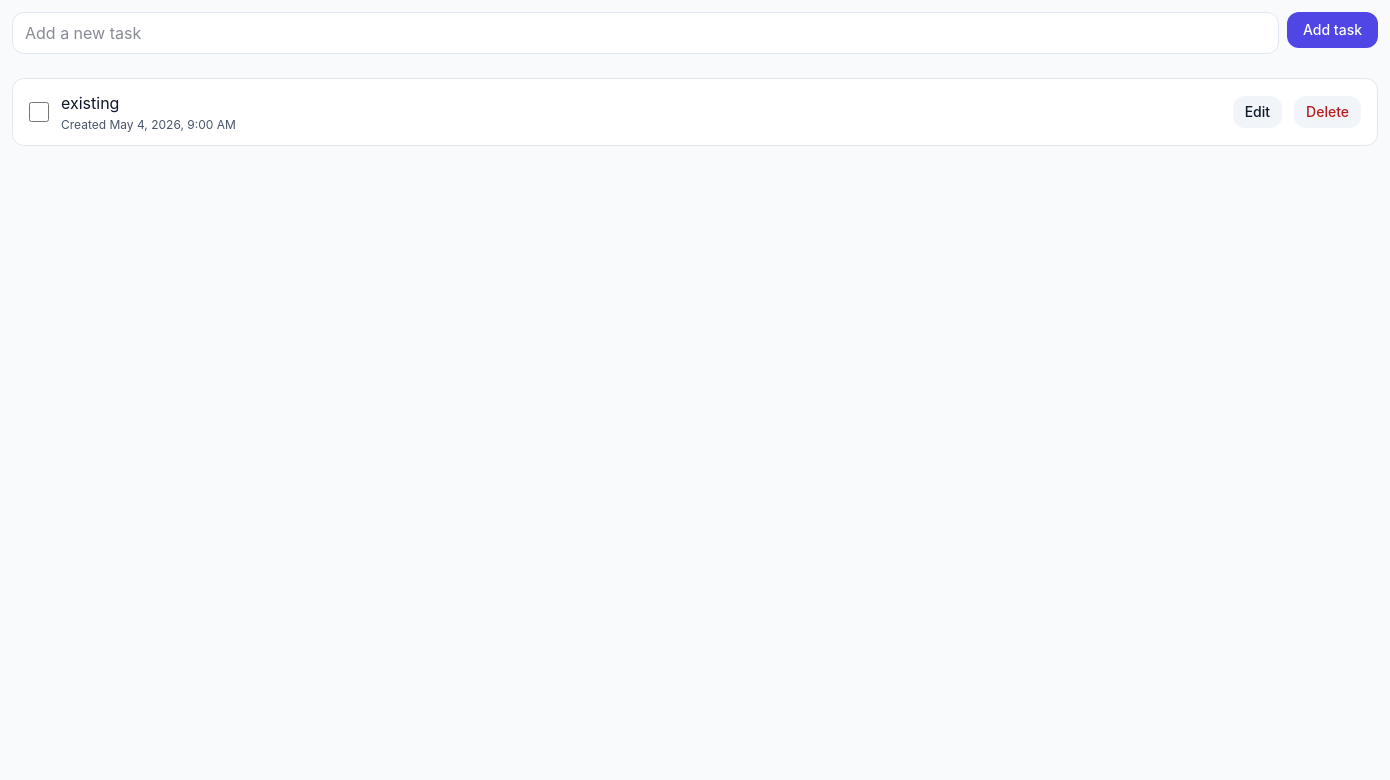
Test: <AddTaskForm /> (in <TaskList />) › rolls back the optimistic insert and surfaces an error notification when the server rejects
Expected: the text "existing" is shown, top-left (61, 93), bottom-right (119, 113)
Type "new task" into the field named "new task title" at [646, 33], box top-left (12, 12), bottom-right (1279, 54)
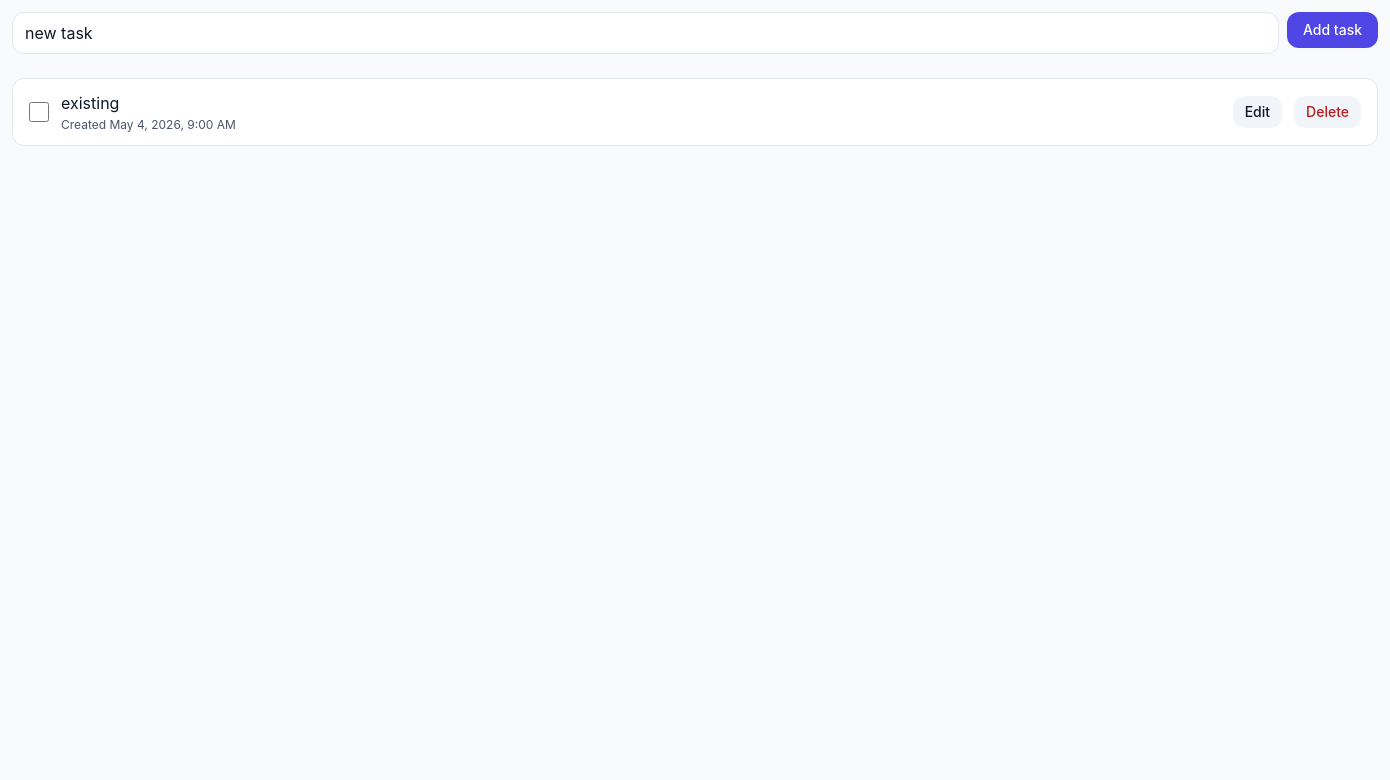
Click the button "Add task" at [1332, 30], box top-left (1287, 12), bottom-right (1378, 48)
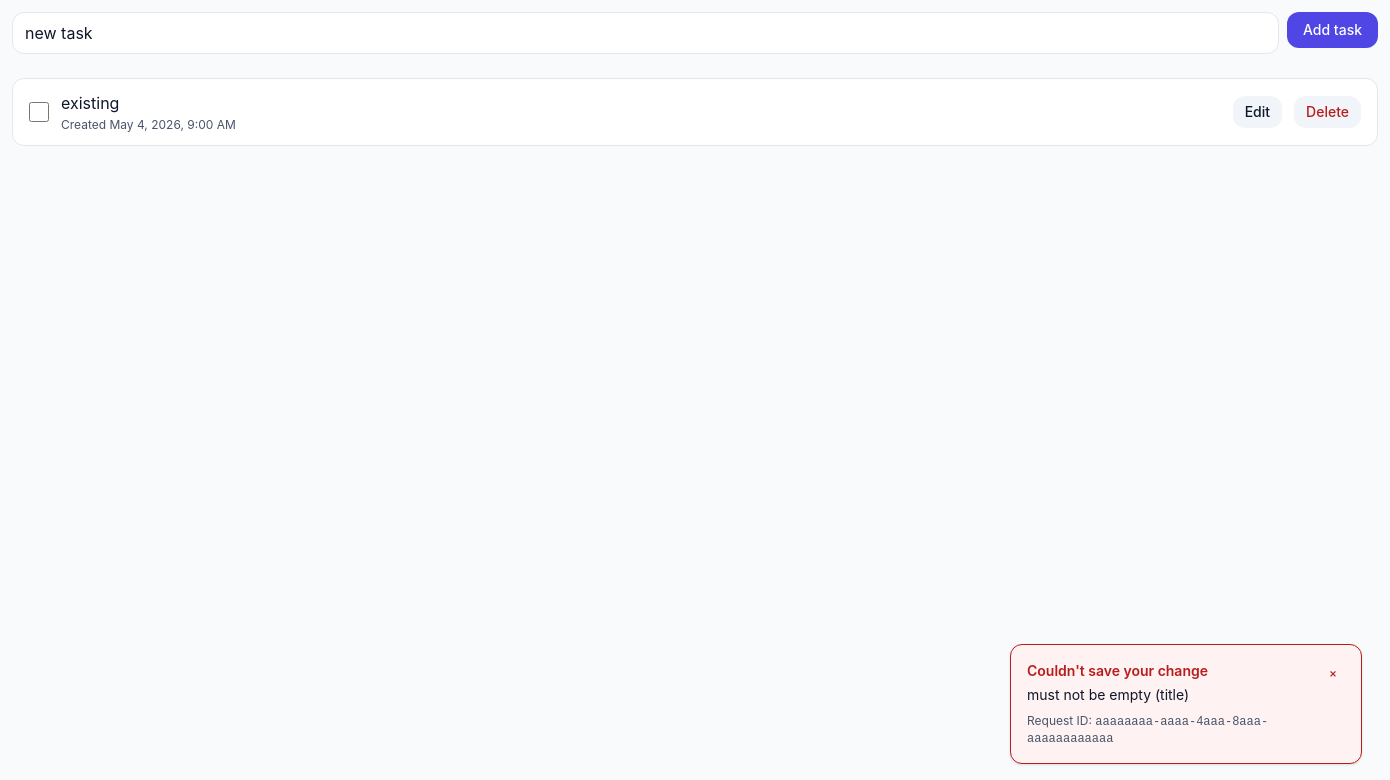
Expected: the number of list items is 1, top-left (12, 78), bottom-right (1378, 146)
Expected: the text "Couldn't save your change" is shown, top-left (1027, 662), bottom-right (1208, 679)
Expected: the text "aaaaaaaa-aaaa-4aaa-8aaa-aaaaaaaaaaaa" is shown, top-left (1027, 715), bottom-right (1268, 746)
